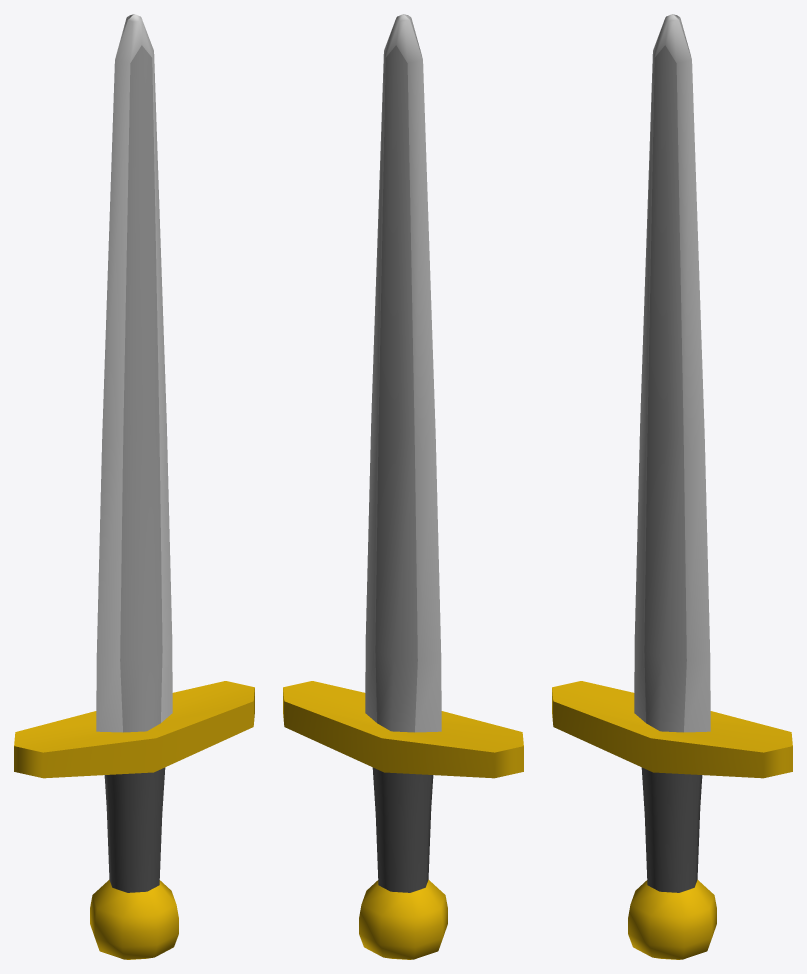
The model's file is sword_weapon_001.fbx.
The picture shows the model from 3 angles, left to right: view 1: azimuth 30°, elevation 25°; view 2: azimuth 150°, elevation 25°; view 3: azimuth 330°, elevation 25°; orthographic projection.
Parts seen in each view (by area): view 1: pCube3; view 2: pCube3; view 3: pCube3.
Boxes of the visible parts, left/top/right/bottom form: pCube3: left=14, top=14, right=254, bottom=959; pCube3: left=283, top=14, right=523, bottom=959; pCube3: left=552, top=14, right=792, bottom=959.
Size of the model in its own units: 35.16 by 131 by 11.5.
